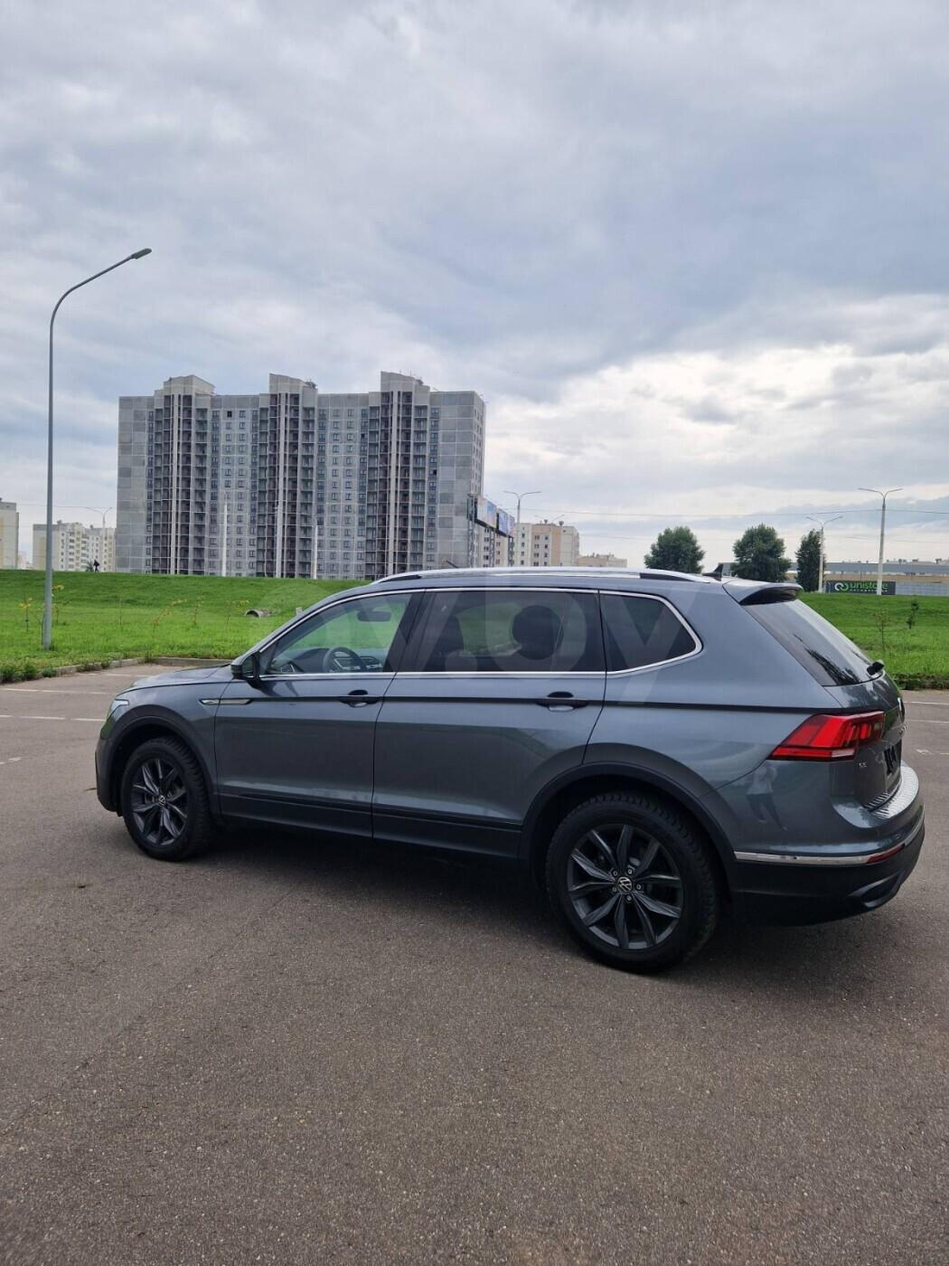Tiguan_2020-2024: (92, 562, 935, 962)
